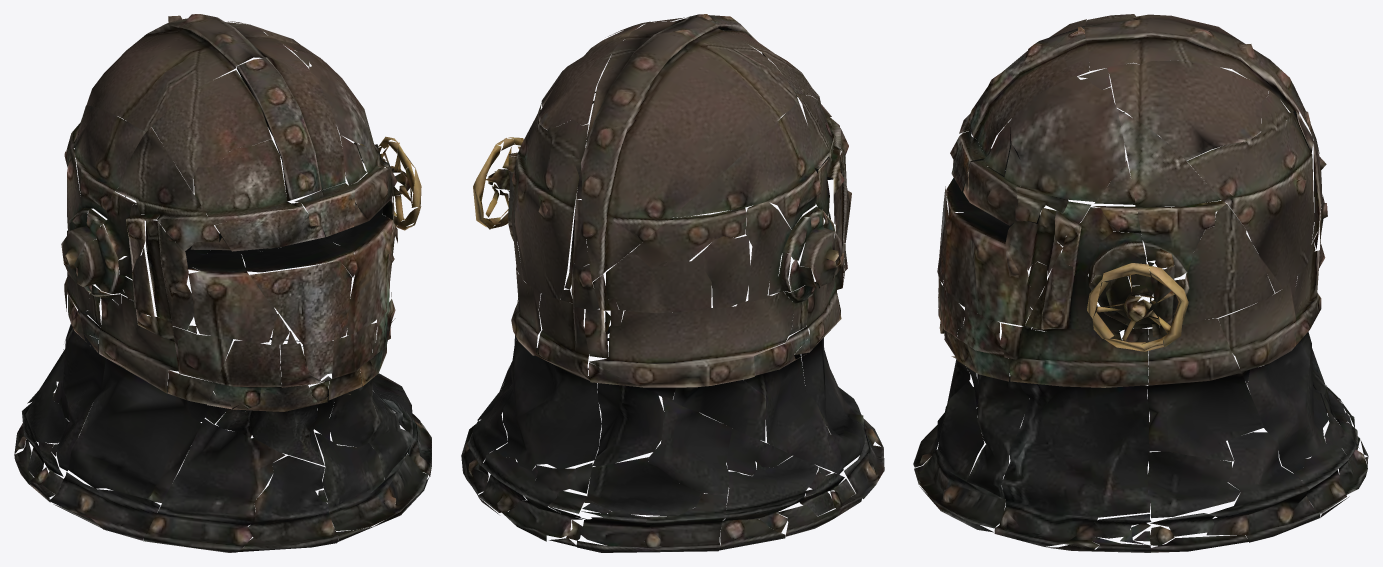
Rendered from a_sluice_helm.glb.
3 renders of one model, left to right at view 1: azimuth 30°, elevation 25°; view 2: azimuth 150°, elevation 25°; view 3: azimuth 270°, elevation 25°, orthographic. The views are drawn at different scales.
Visible parts, largest first — view 1: tripo_node_242d5b3c-4b20-494e-9c07-7c95722780ba; view 2: tripo_node_242d5b3c-4b20-494e-9c07-7c95722780ba; view 3: tripo_node_242d5b3c-4b20-494e-9c07-7c95722780ba.
Boxes of the visible parts, <box> form: tripo_node_242d5b3c-4b20-494e-9c07-7c95722780ba: <box>14,14,431,552</box>; tripo_node_242d5b3c-4b20-494e-9c07-7c95722780ba: <box>461,14,884,552</box>; tripo_node_242d5b3c-4b20-494e-9c07-7c95722780ba: <box>913,14,1368,552</box>.
Bounding box in the file's own units: 0.2992 × 0.3397 × 0.3123.
Materials: 1 (1 with a texture image).
